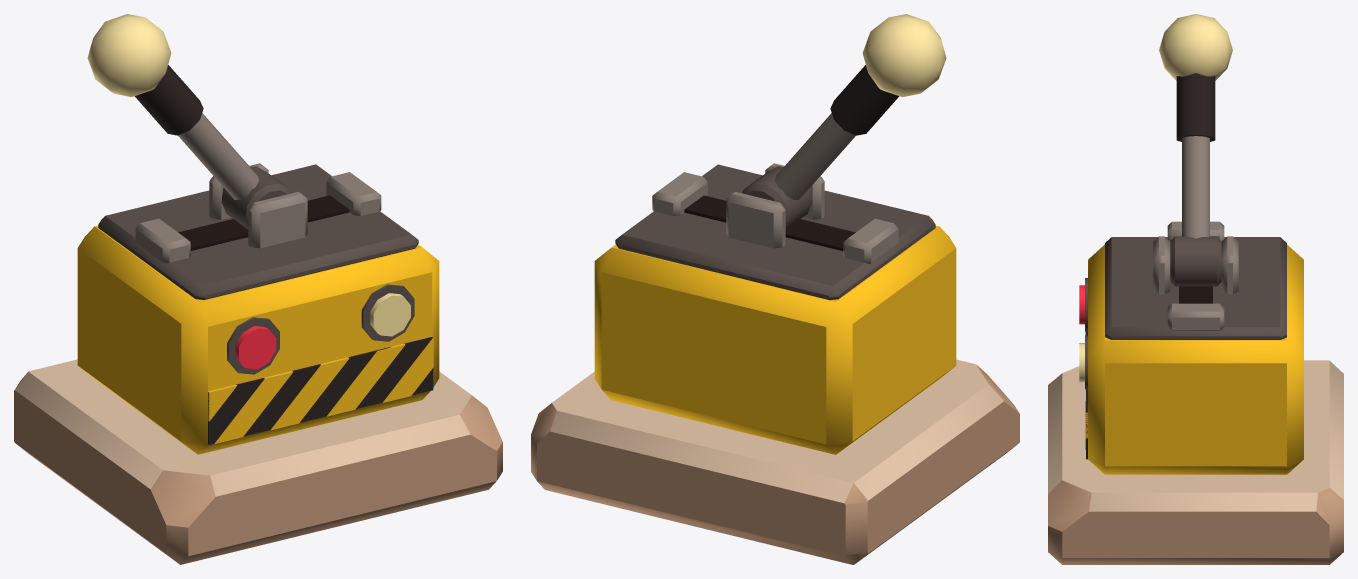
The model's file is switch__upper.glb.
3 renders of one model, left to right at view 1: azimuth 30°, elevation 25°; view 2: azimuth 150°, elevation 25°; view 3: azimuth 270°, elevation 25°, orthographic. The views are drawn at different scales.
Parts seen in each view (by area): view 1: Base, Lever; view 2: Base, Lever; view 3: Base, Lever.
Part boxes in pixels (x1,y1,x2,y2): Base: (14,163,502,564); Lever: (87,14,291,229); Base: (531,163,1019,564); Lever: (742,14,946,229); Base: (1048,221,1343,564); Lever: (1159,14,1232,286).
Bounding box in the file's own units: 0.6 × 0.8272 × 0.52.
